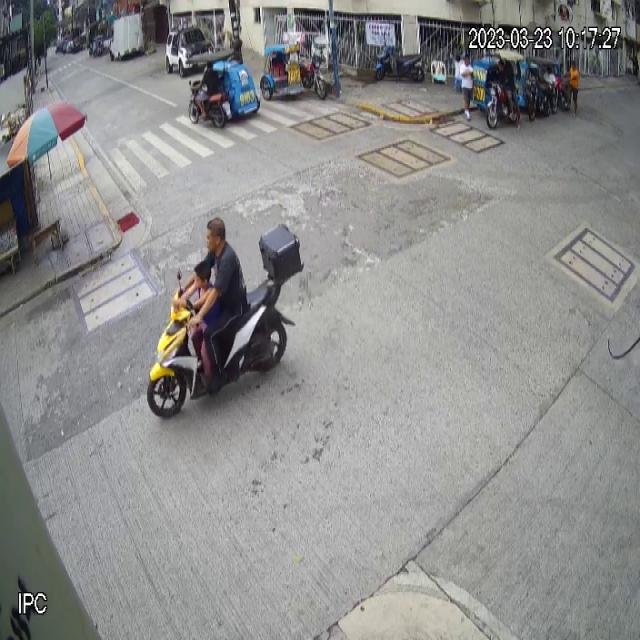Motorcycle: (146, 220, 304, 422)
Tricycle: (188, 47, 261, 129), (260, 36, 328, 101), (472, 49, 526, 130)
